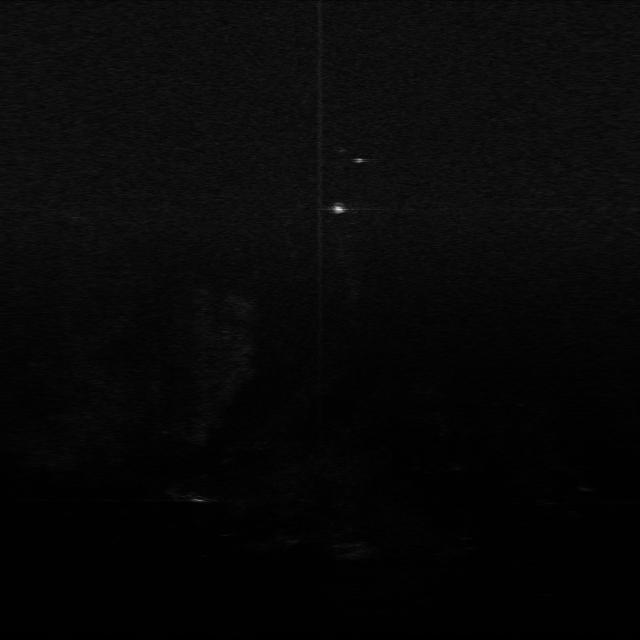rov: (326, 202, 350, 217)
